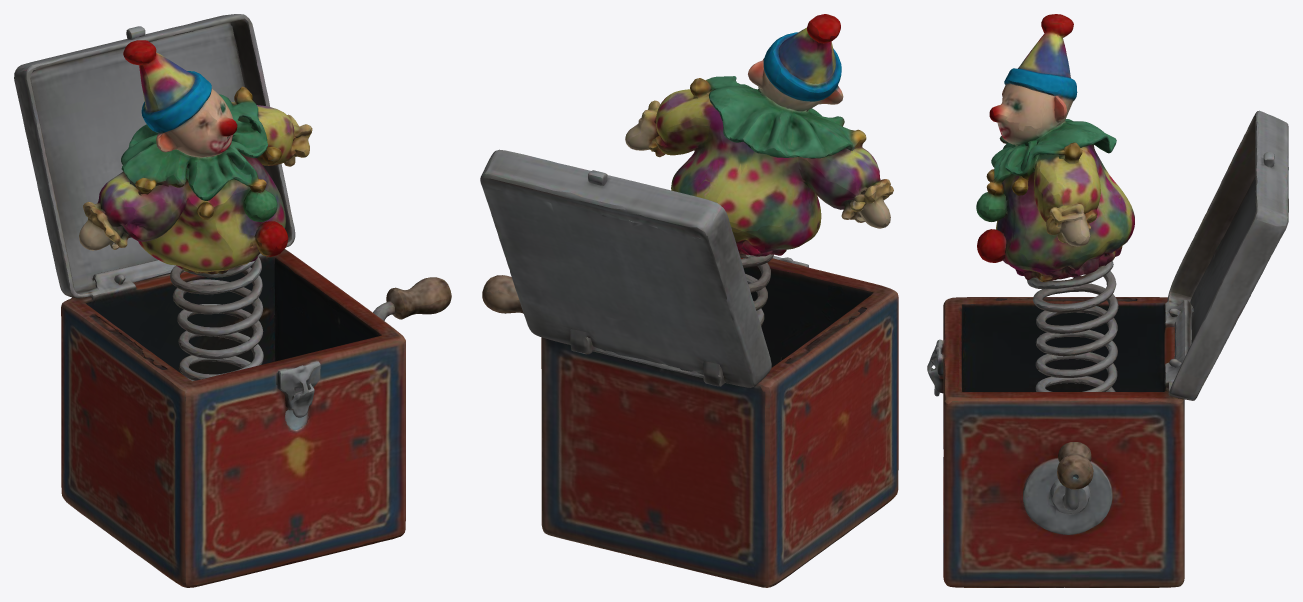
Rendered from parts.glb.
3 renders of one model, left to right at view 1: azimuth 30°, elevation 25°; view 2: azimuth 150°, elevation 25°; view 3: azimuth 270°, elevation 25°, orthographic. The views are drawn at different scales.
Size of the model in its own units: 0.2203 by 0.28 by 0.1924.
7 materials, 7 textured.
